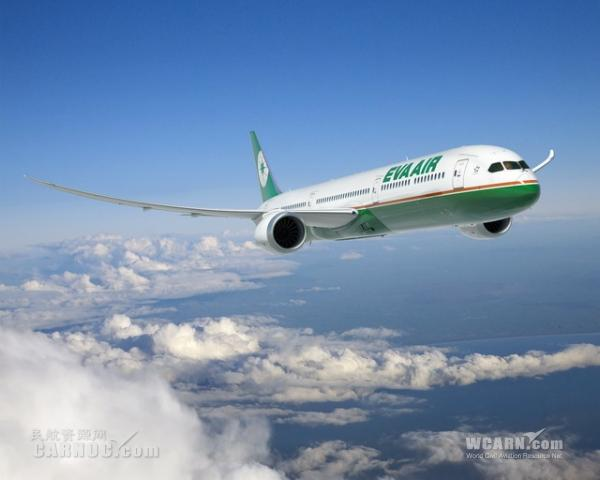airplane: (19, 122, 564, 253)
